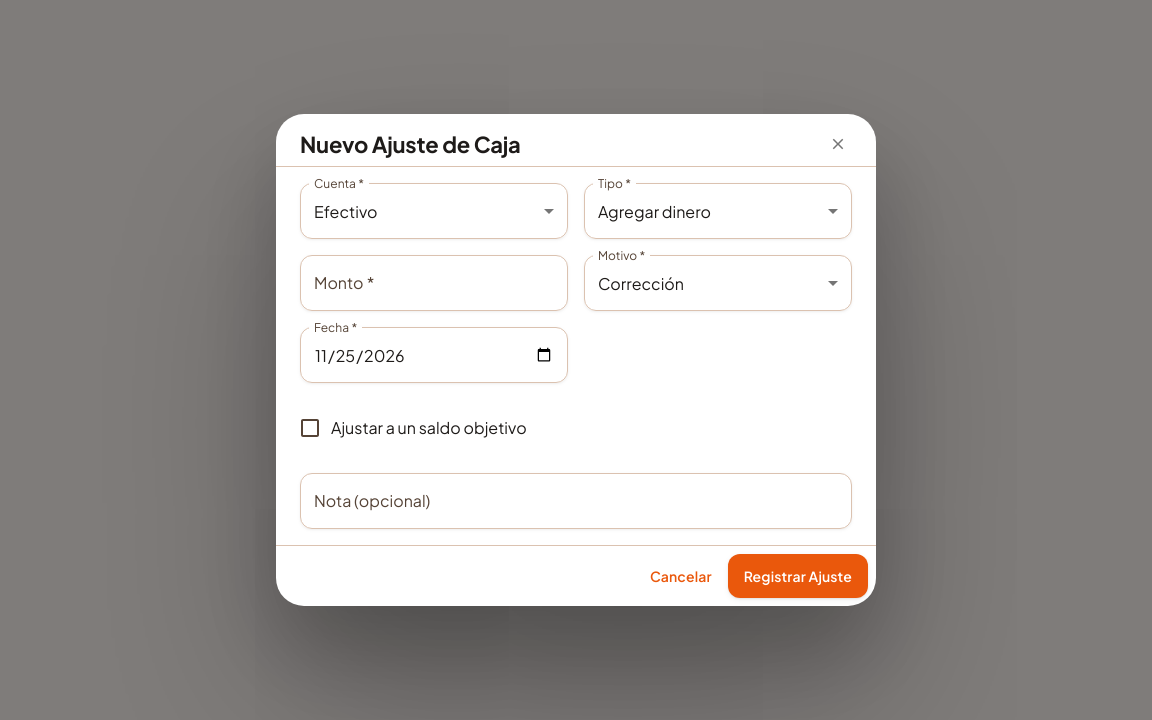
Test case: CashAdjustmentDialog › rejects a zero amount without calling the API
Type "0" into the number field labelled "Monto *".
click(434, 283); type("0")  # box [300,255,568,311]
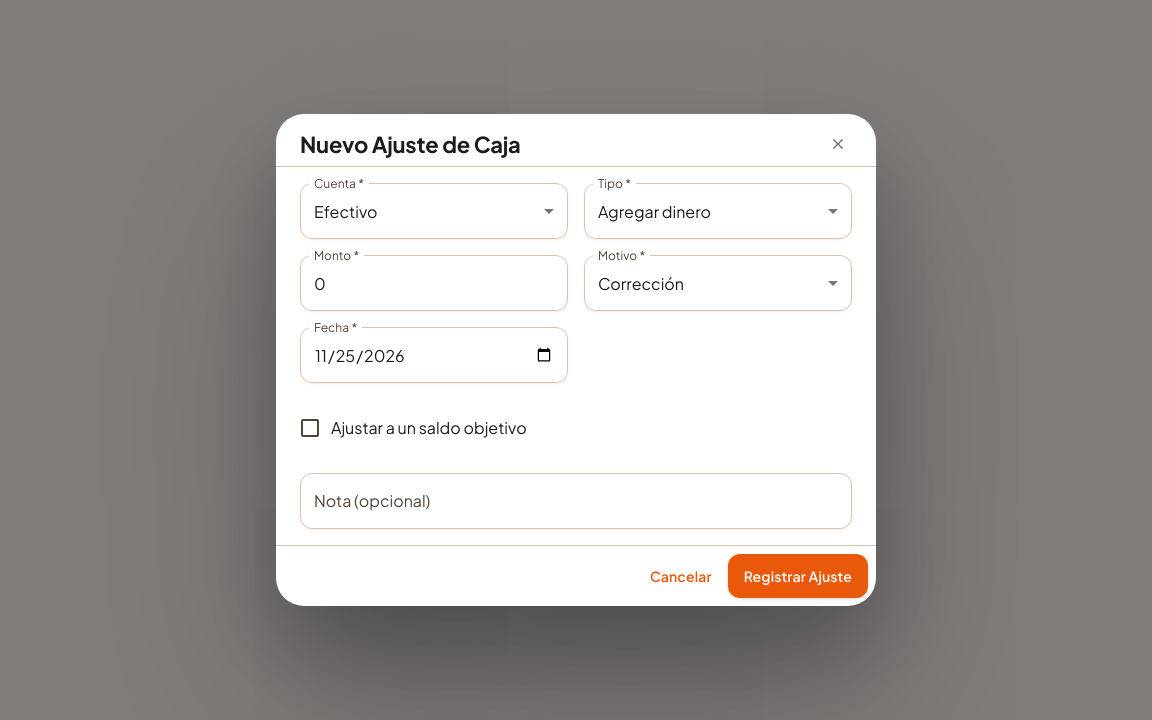
Click the button "Registrar Ajuste".
click(798, 576)  # box [728,554,868,598]
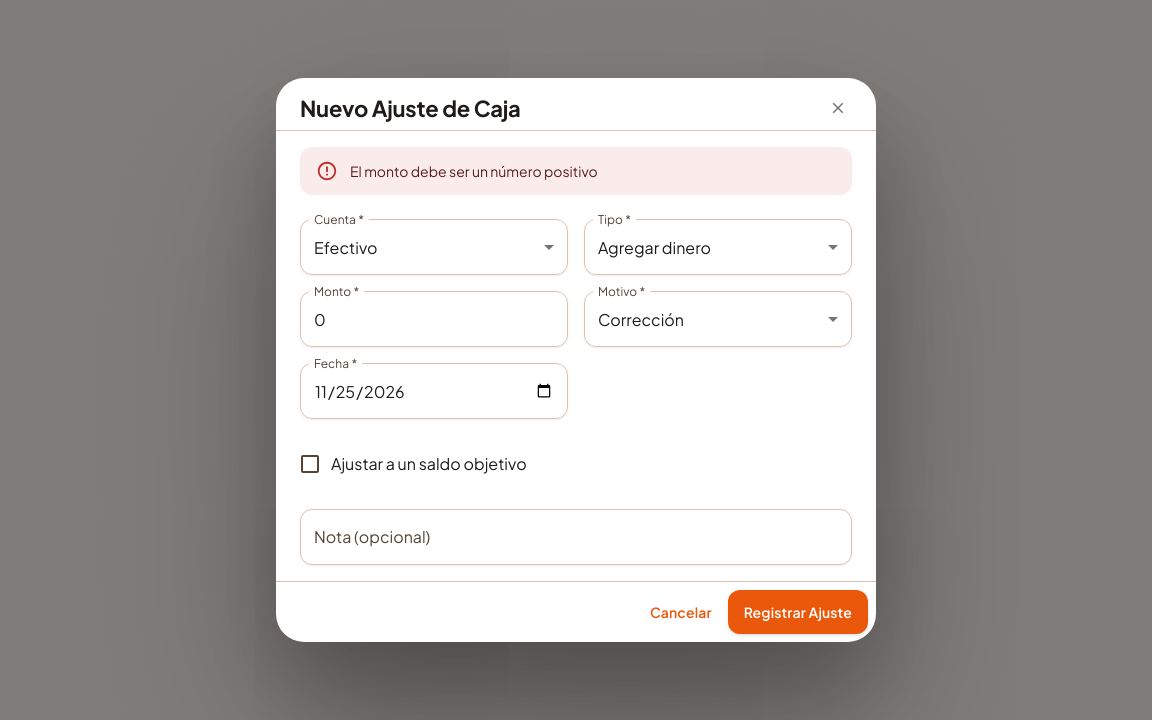
Now the text "El monto debe ser un número positivo" is shown, box [350,162,598,180]
